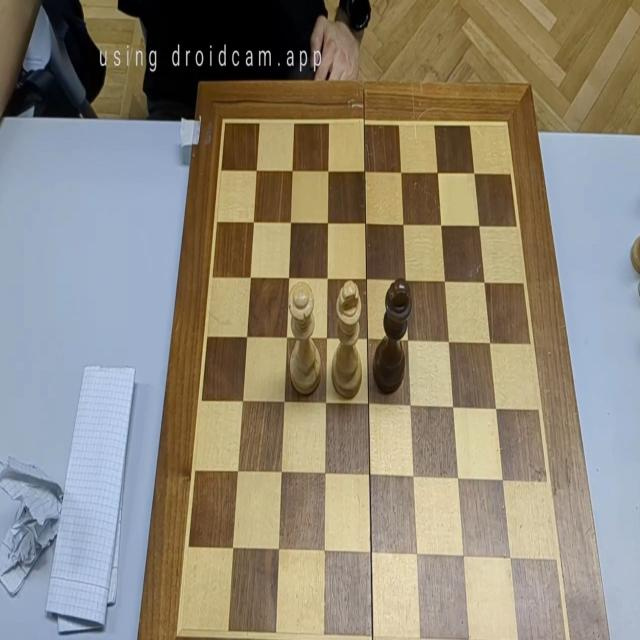black_king: (373, 278, 412, 394)
white_king: (332, 280, 362, 399)
white_queen: (288, 282, 321, 396)
